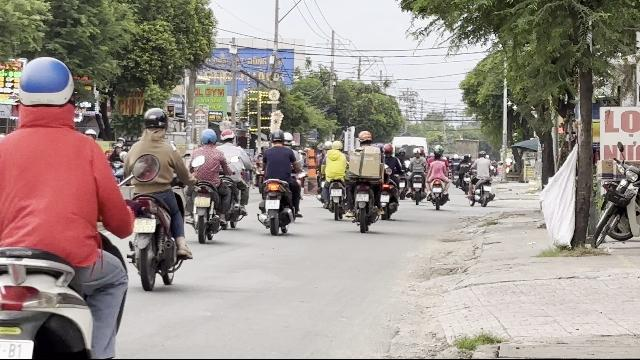helmet: (13, 56, 77, 128), (141, 107, 169, 137), (199, 128, 217, 146), (270, 130, 284, 144)
licenseplate: (134, 218, 154, 232), (194, 197, 210, 207), (264, 199, 280, 209)
motorcyclist: (0, 54, 144, 358), (116, 106, 192, 288), (256, 129, 304, 234), (186, 126, 226, 241)
